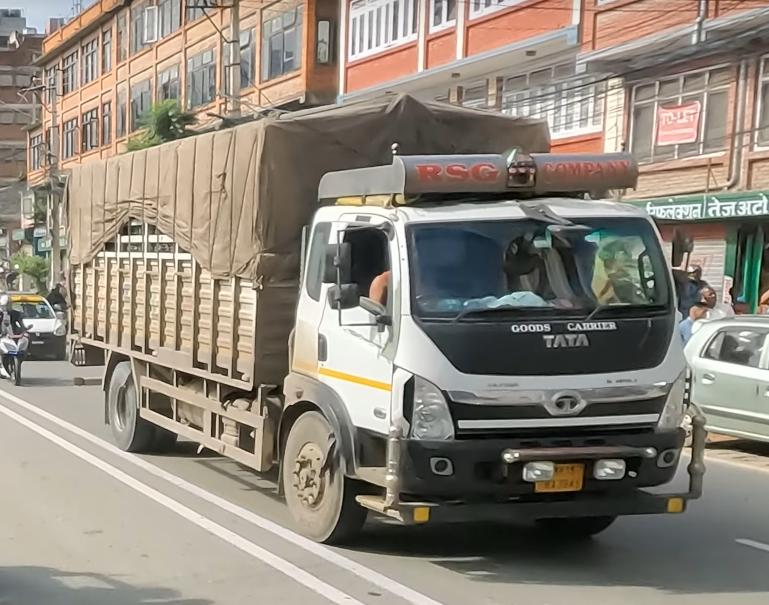bike: (0, 320, 30, 394)
car: (682, 312, 768, 457)
taxi: (0, 285, 69, 362)
truck: (61, 92, 707, 545)
